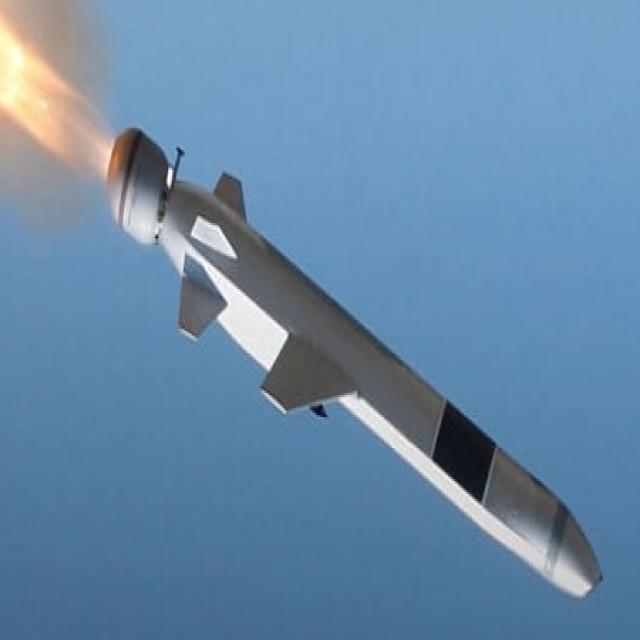missile: (103, 125, 602, 598)
